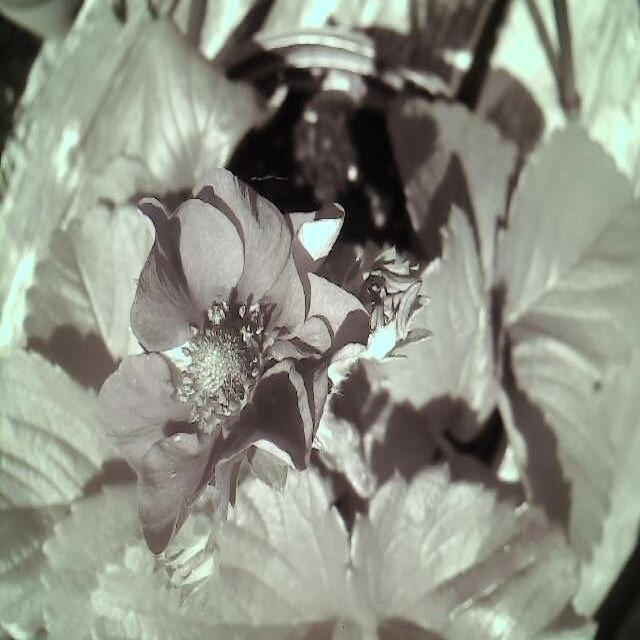flower: (85, 163, 382, 560)
